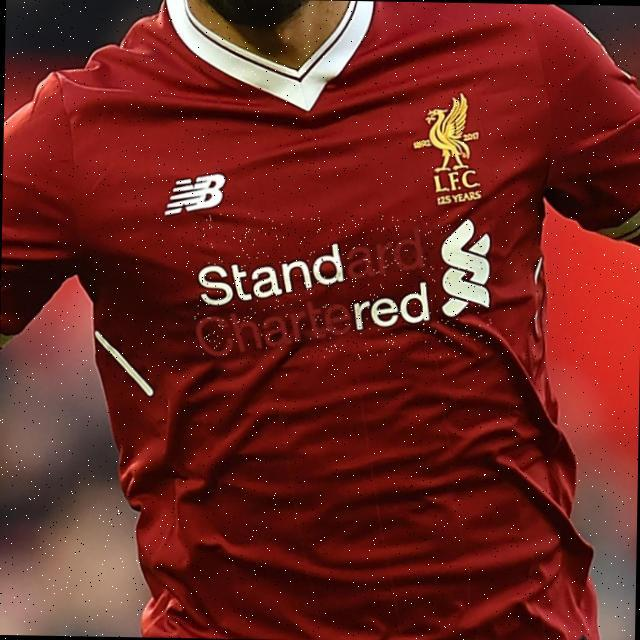Standard Chartered: (193, 213, 493, 362)
